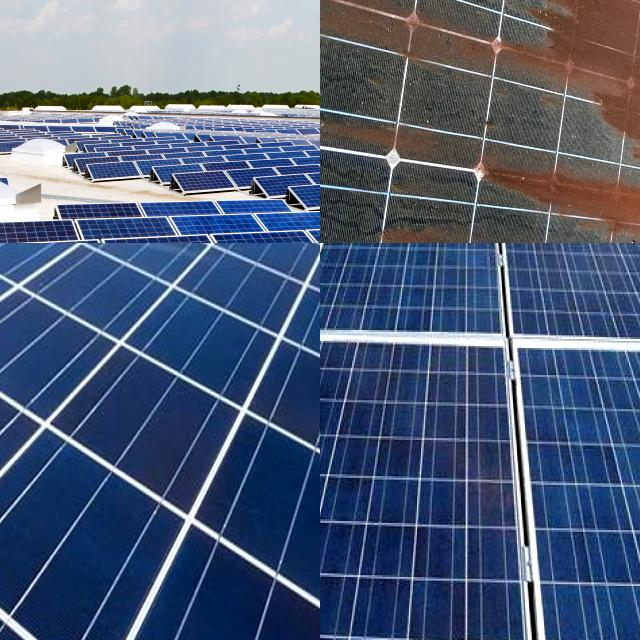crack: (0, 243, 320, 640), (320, 288, 576, 640), (501, 319, 640, 640), (320, 243, 565, 392), (479, 243, 640, 371), (320, 243, 429, 373), (484, 243, 640, 293)
dust: (519, 18, 640, 150), (499, 163, 640, 243), (320, 0, 518, 55), (413, 0, 541, 66), (320, 0, 487, 22), (320, 221, 480, 243)
